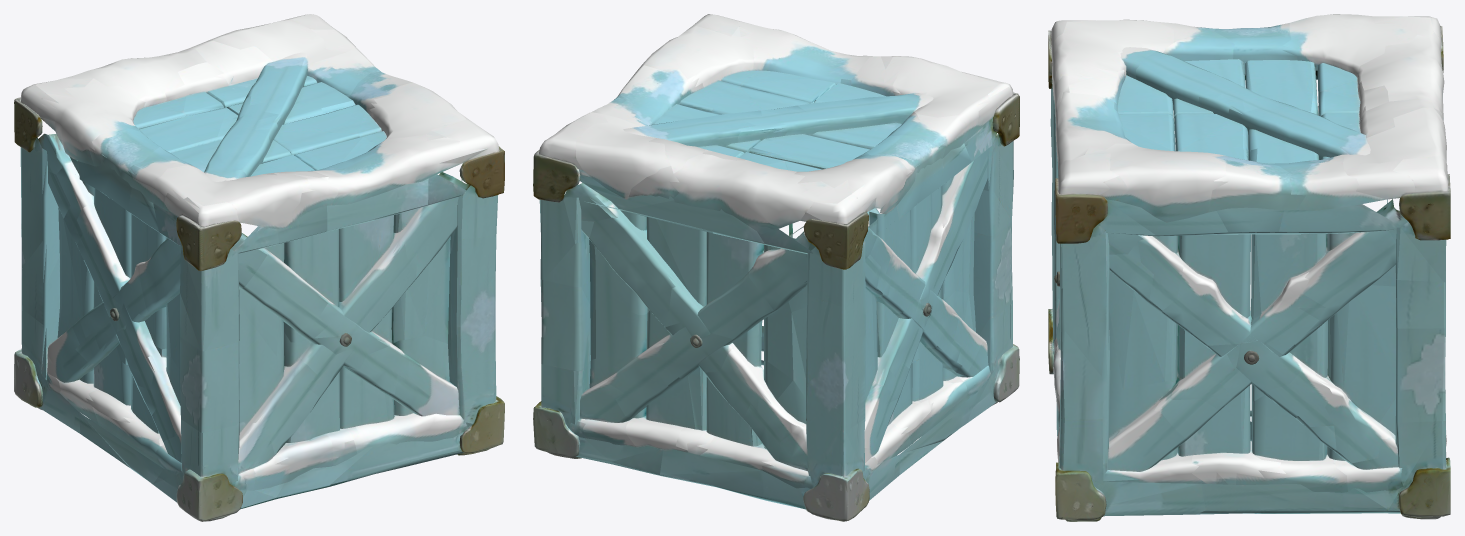
Rendered from SnowboundCrate.glb.
The picture shows the model from 3 angles, left to right: view 1: azimuth 30°, elevation 25°; view 2: azimuth 150°, elevation 25°; view 3: azimuth 270°, elevation 25°; orthographic projection. The views are drawn at different scales.
Parts seen in each view (by area): view 1: Mesh::generatedModels/eDWVaVcAWrLaHd9DmXKo.gltf; view 2: Mesh::generatedModels/eDWVaVcAWrLaHd9DmXKo.gltf; view 3: Mesh::generatedModels/eDWVaVcAWrLaHd9DmXKo.gltf.
Boxes of the visible parts, box(x1,y1,x2,y2) form: Mesh::generatedModels/eDWVaVcAWrLaHd9DmXKo.gltf: box(14, 14, 504, 521); Mesh::generatedModels/eDWVaVcAWrLaHd9DmXKo.gltf: box(533, 14, 1019, 521); Mesh::generatedModels/eDWVaVcAWrLaHd9DmXKo.gltf: box(1048, 14, 1450, 521).
Bounding box in the file's own units: 1.02 × 0.9941 × 1.02.
1 material, 1 textured.
